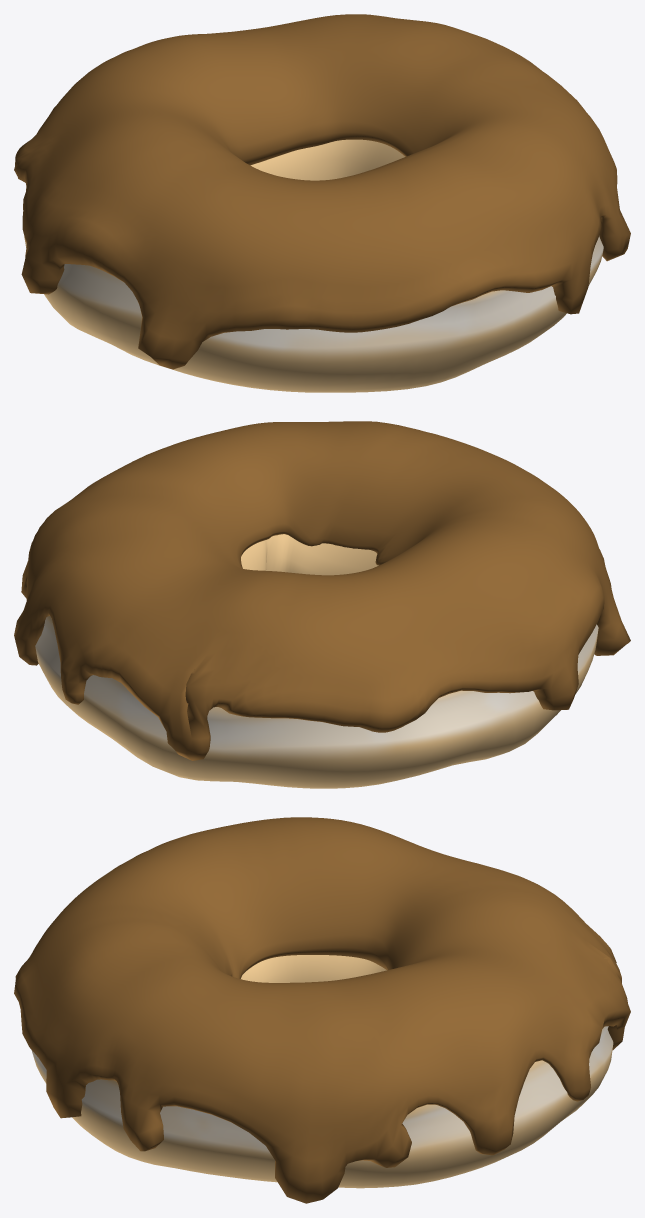
File: donut.glb
3 renders of one model, top to bottom at view 1: azimuth 30°, elevation 25°; view 2: azimuth 150°, elevation 25°; view 3: azimuth 270°, elevation 25°, orthographic. The views are drawn at different scales.
Visible parts, largest first — view 1: Icing; view 2: Icing; view 3: Icing.
Boxes of the visible parts, bbox=[...] form: Icing: bbox=[14, 14, 630, 392]; Icing: bbox=[14, 421, 630, 788]; Icing: bbox=[14, 817, 630, 1203].
Bounding box in the file's own units: 0.1073 × 0.0382 × 0.1048.
Materials: 2 (1 with a texture image).
